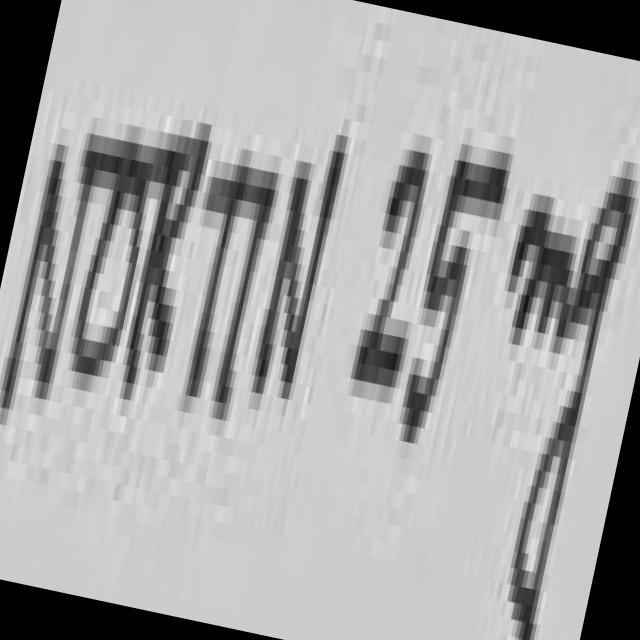2: (355, 151, 427, 379)
5: (407, 168, 508, 442)
I: (216, 163, 276, 414)
N: (256, 136, 346, 391), (3, 168, 92, 408)
O: (73, 142, 151, 371)
R: (124, 137, 206, 399)
T: (187, 165, 262, 389)
g: (512, 178, 633, 640)
m: (513, 210, 575, 345)
